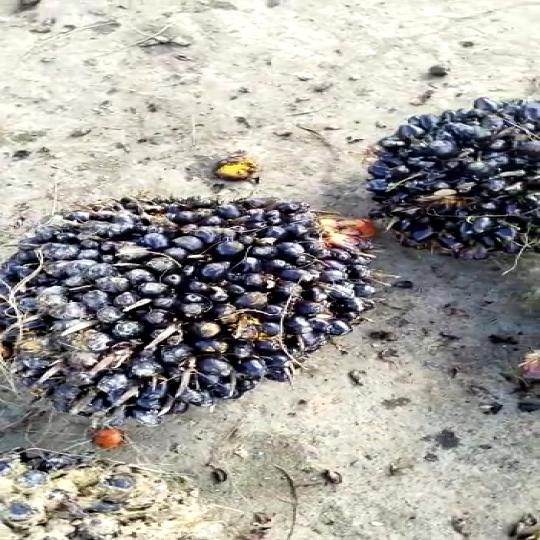mentah: (1, 183, 367, 441), (350, 79, 540, 283)
